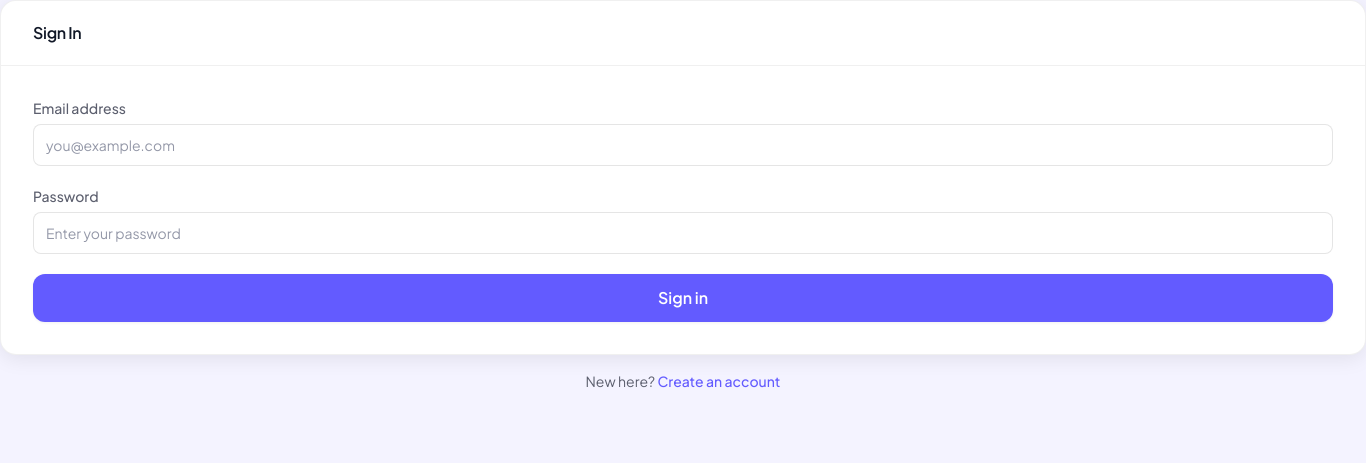
LoginPage › shows an invalid-credentials message on 401
Type "admin@example.com" into the field labelled "Email address" at (683, 145), box [33, 124, 1333, 166]
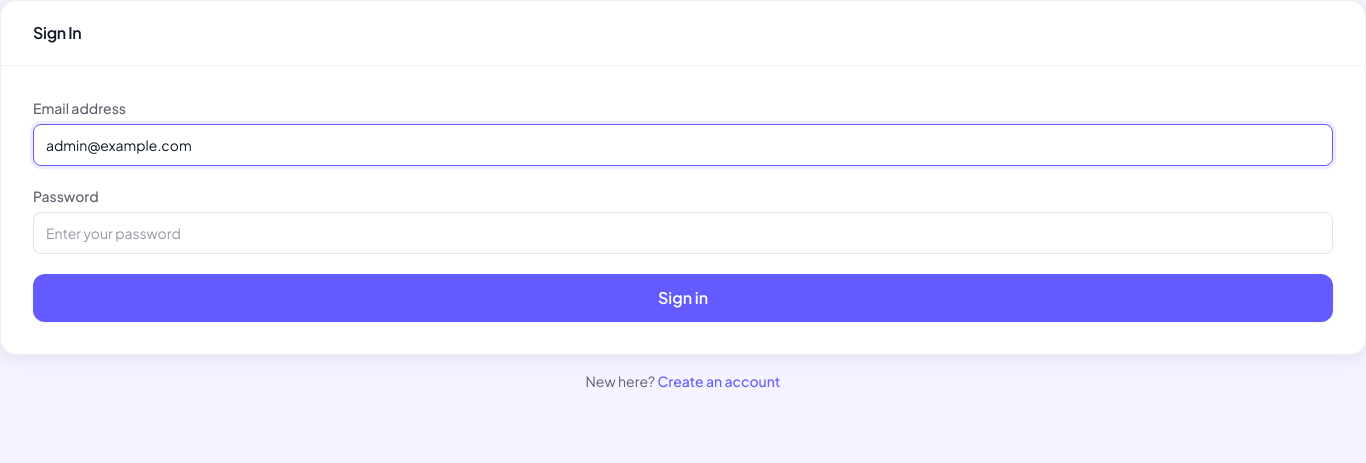
Type "wrong" into the password field labelled "Password" at (683, 233), box [33, 212, 1333, 254]
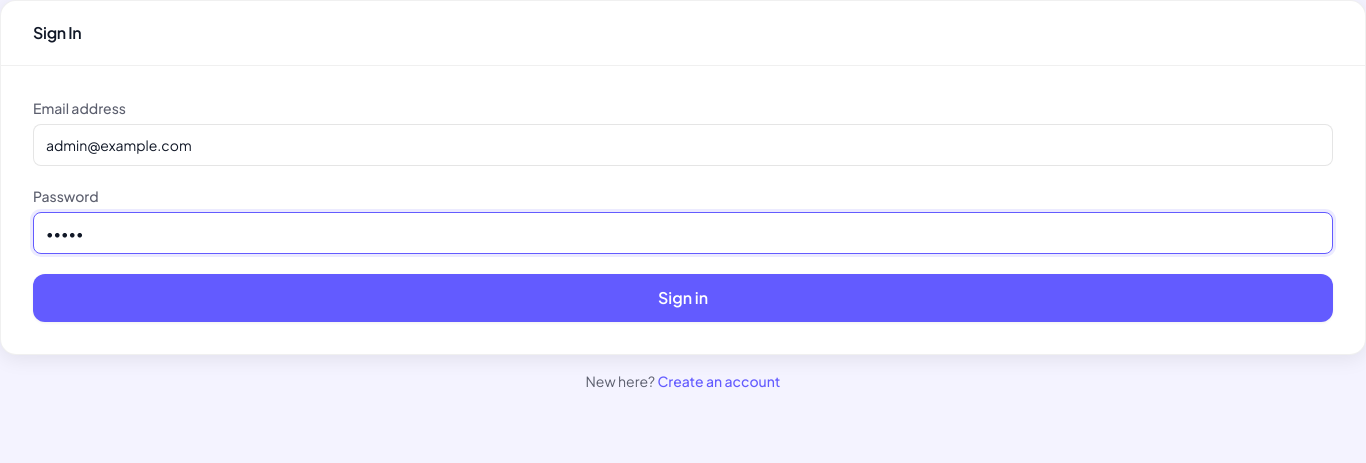
Click the button "Sign in" at (683, 298), box [33, 274, 1333, 322]
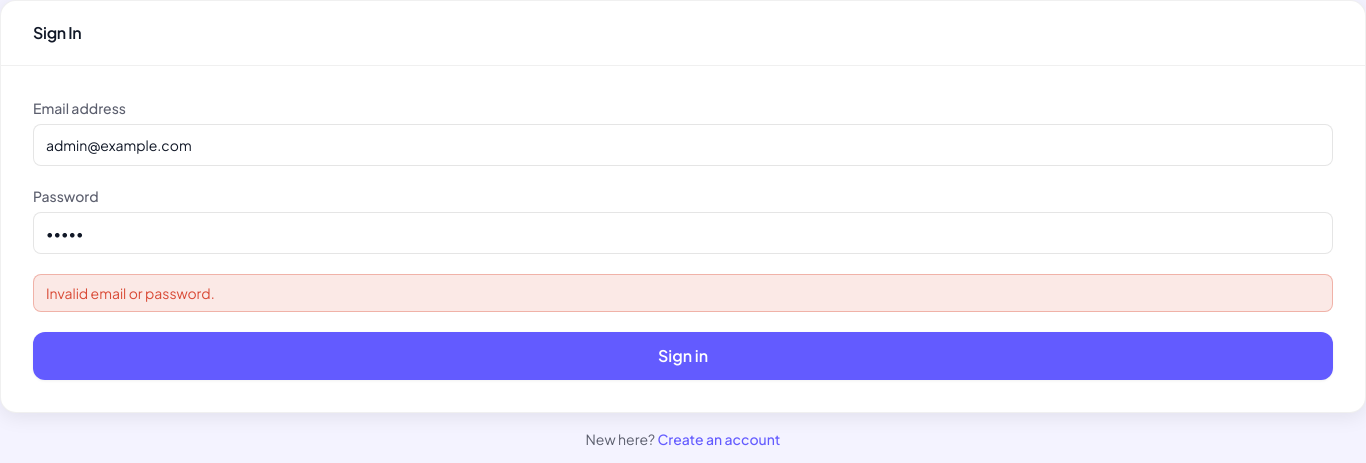
Expected: the message reads "Invalid email or password.", [46, 284, 215, 302]
